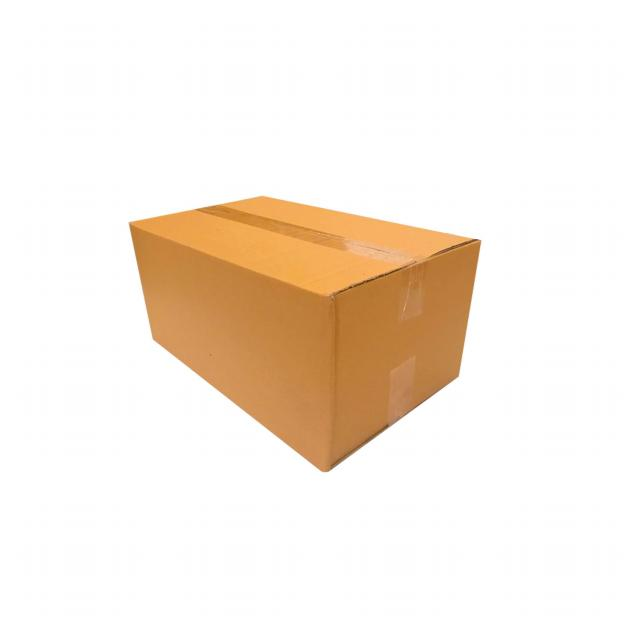box: (112, 180, 519, 490)
